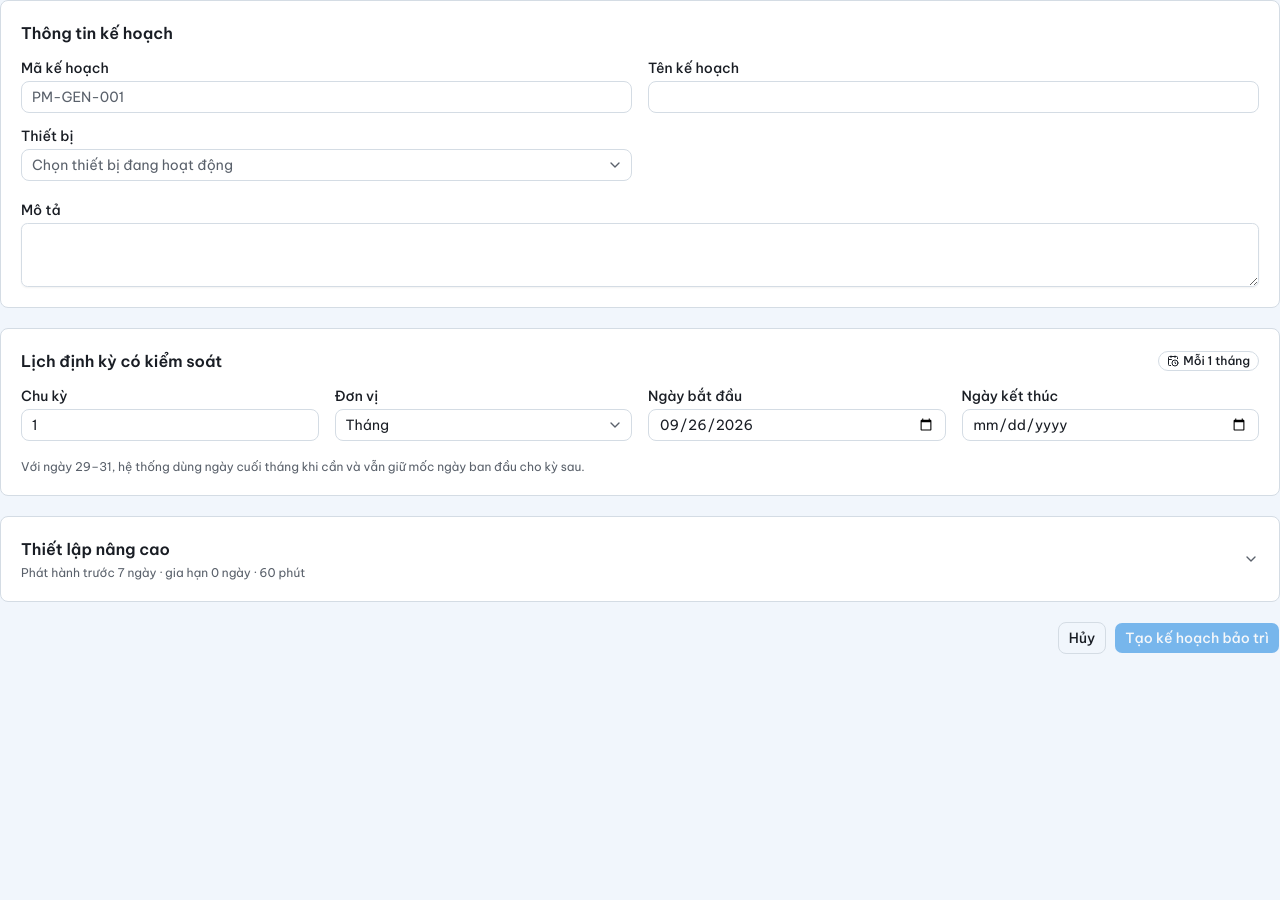
Test: maintenance planning workspace › keeps the main schedule visible and collapses advanced defaults
This screenshot has width=1280, height=900.
Expected: the field labelled "Mã kế hoạch" is shown, [21,81,632,113]
Expected: the number field labelled "Chu kỳ" is shown, [21,409,318,441]
Click the heading "Thiết lập nâng cao" at (96, 549), box [21,539,1259,580]
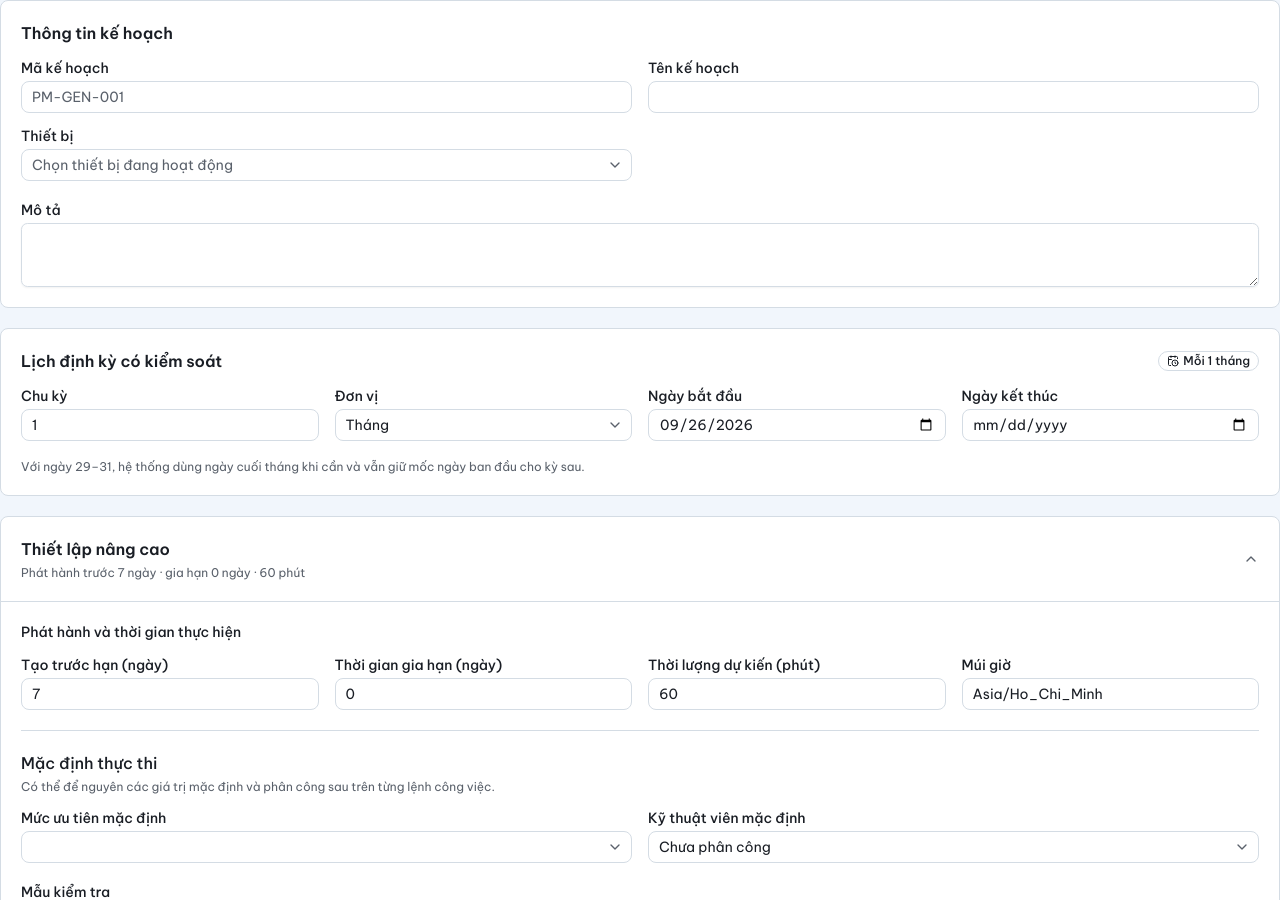
Now the number field labelled "Tạo trước hạn (ngày)" holds "7", box [21,678,318,710]
Now the field labelled "Múi giờ" holds "Asia/Ho_Chi_Minh", box [962,678,1259,710]
Now the dropdown named "Kỹ thuật viên mặc định" is shown, box [648,831,1259,863]
